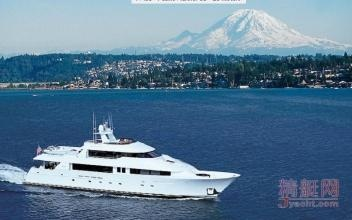yacht: (22, 111, 238, 199)
